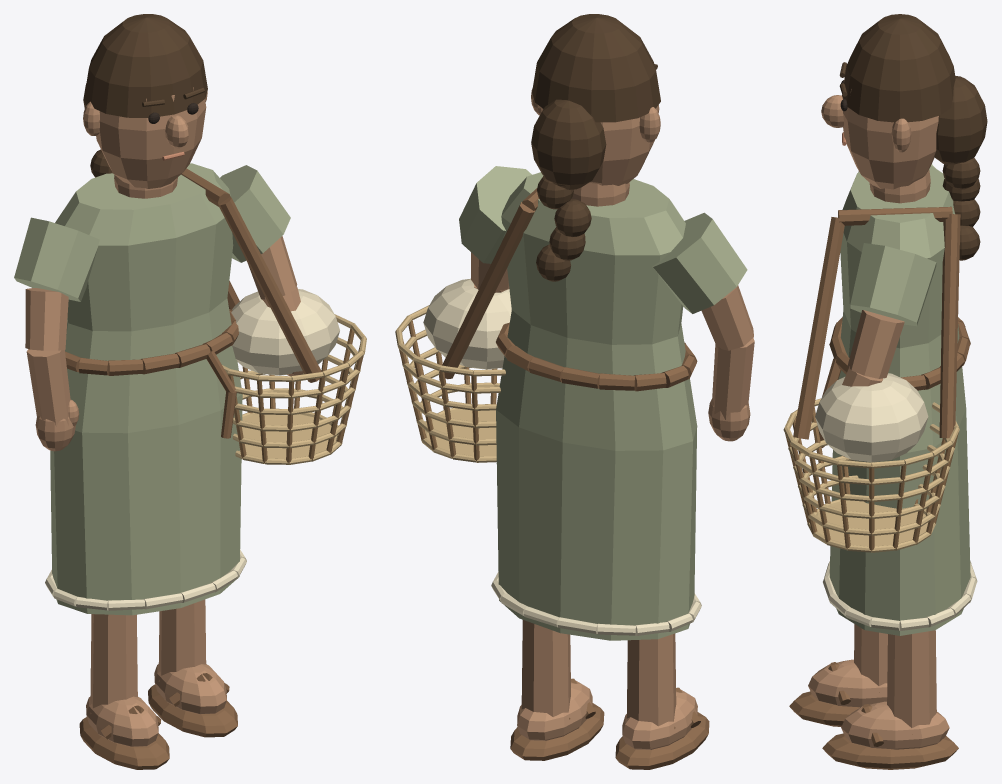
The picture shows the model from 3 angles, left to right: view 1: azimuth 30°, elevation 25°; view 2: azimuth 150°, elevation 25°; view 3: azimuth 270°, elevation 25°; orthographic projection. The views are drawn at different scales.
Visible parts, largest first — view 1: BA-0088 Household shopper batched; view 2: BA-0088 Household shopper batched; view 3: BA-0088 Household shopper batched.
Boxes of the visible parts, bbox=[...] form: BA-0088 Household shopper batched: bbox=[14, 14, 366, 769]; BA-0088 Household shopper batched: bbox=[395, 14, 754, 769]; BA-0088 Household shopper batched: bbox=[783, 14, 987, 769].
Size of the model in its own units: 0.7857 by 1.62 by 0.4146.
